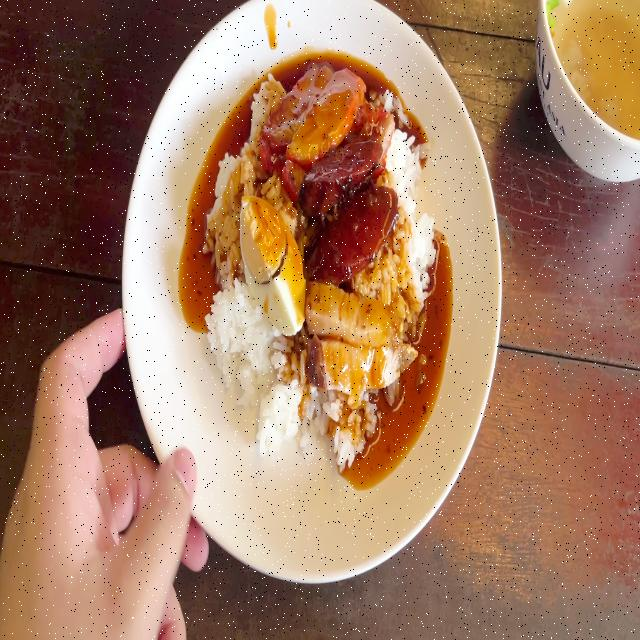boiled_egg: (242, 202, 302, 334)
chainese_sausage: (304, 132, 391, 266)
crispy_pork: (312, 288, 408, 379)
red_pork: (270, 67, 363, 156)
red_pork_and_crispy_pork: (215, 76, 428, 460)
rice: (208, 288, 268, 410), (259, 334, 318, 446), (210, 144, 241, 294)
